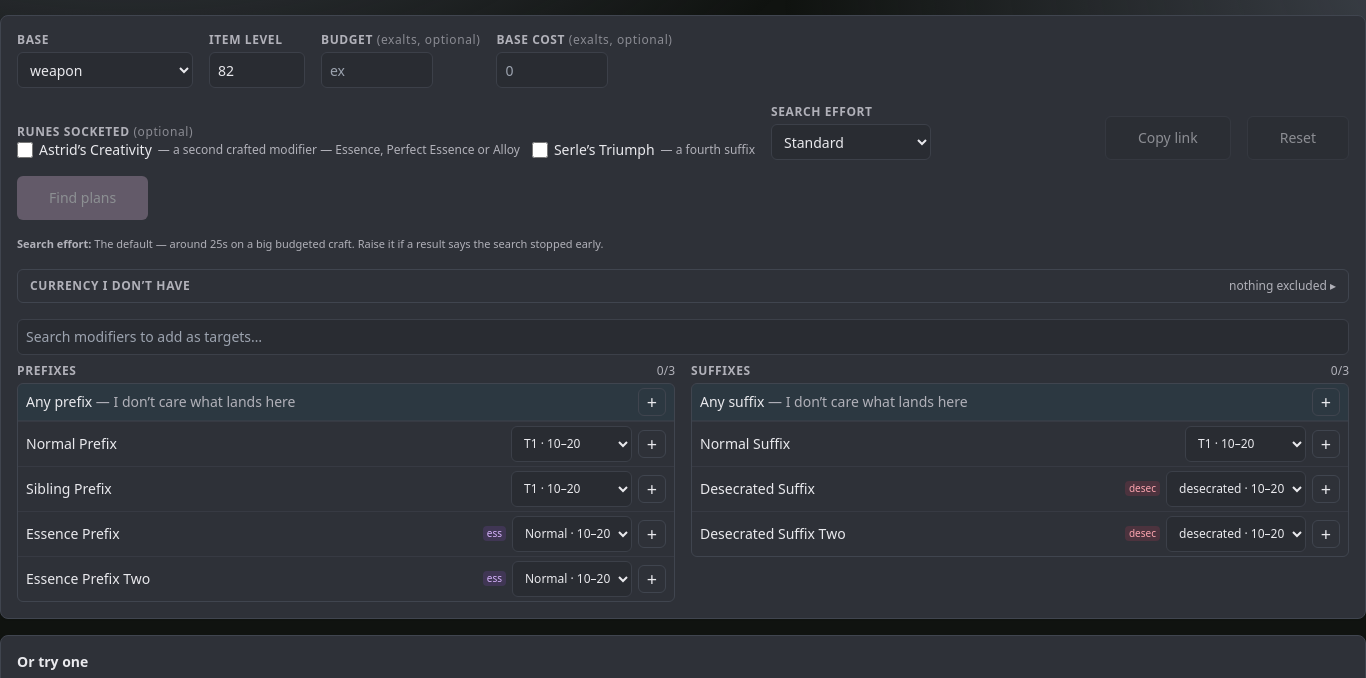
Scenario: EngineLab — the empty state gives the real reason › announces a declined planner as declined, not as a search that scored zero
Check: the field with placeholder "Search modifiers to add as targets…" is shown, box [17, 319, 1349, 355]
What coordinates should you click on to do the following:
click the button "+" in the row of "Normal Prefix"
I would click on:
 (652, 444)
Its box is [638, 430, 666, 458].
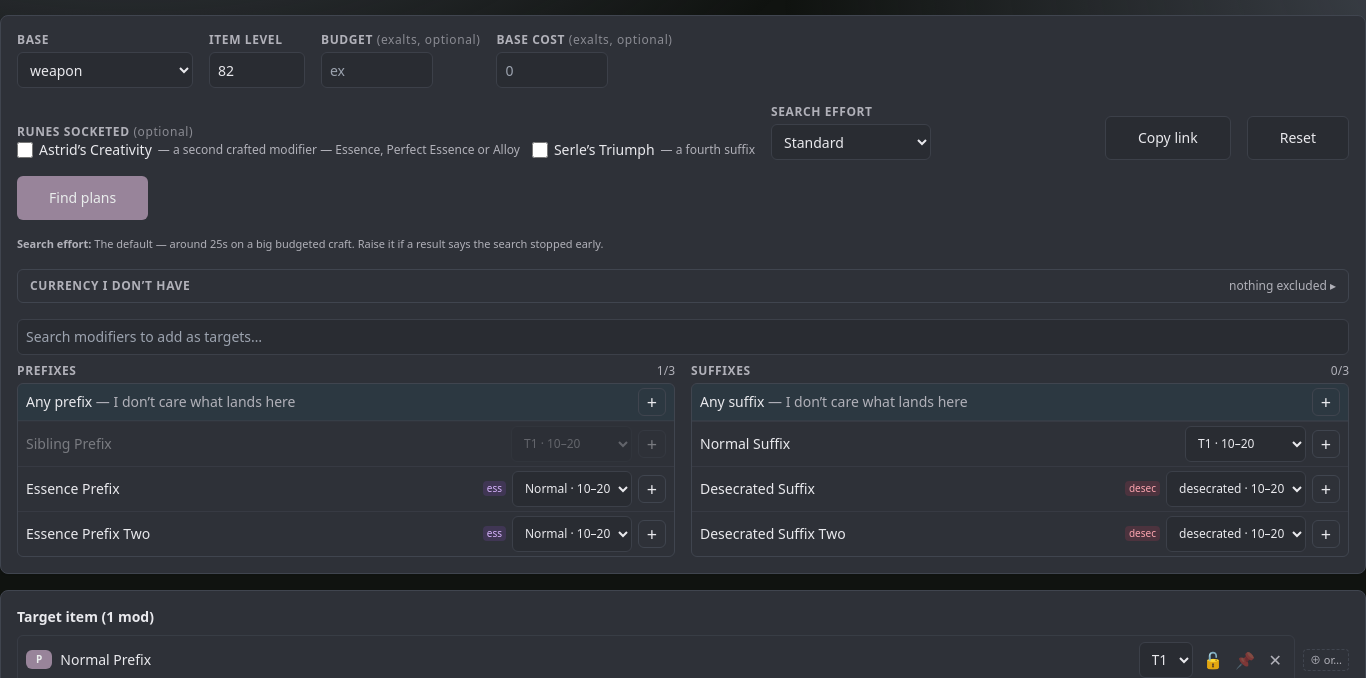
What coordinates should you click on to do the following:
click the button "Find plans"
I would click on:
 (83, 198)
Its box is [17, 176, 148, 220].
(page scrolled)
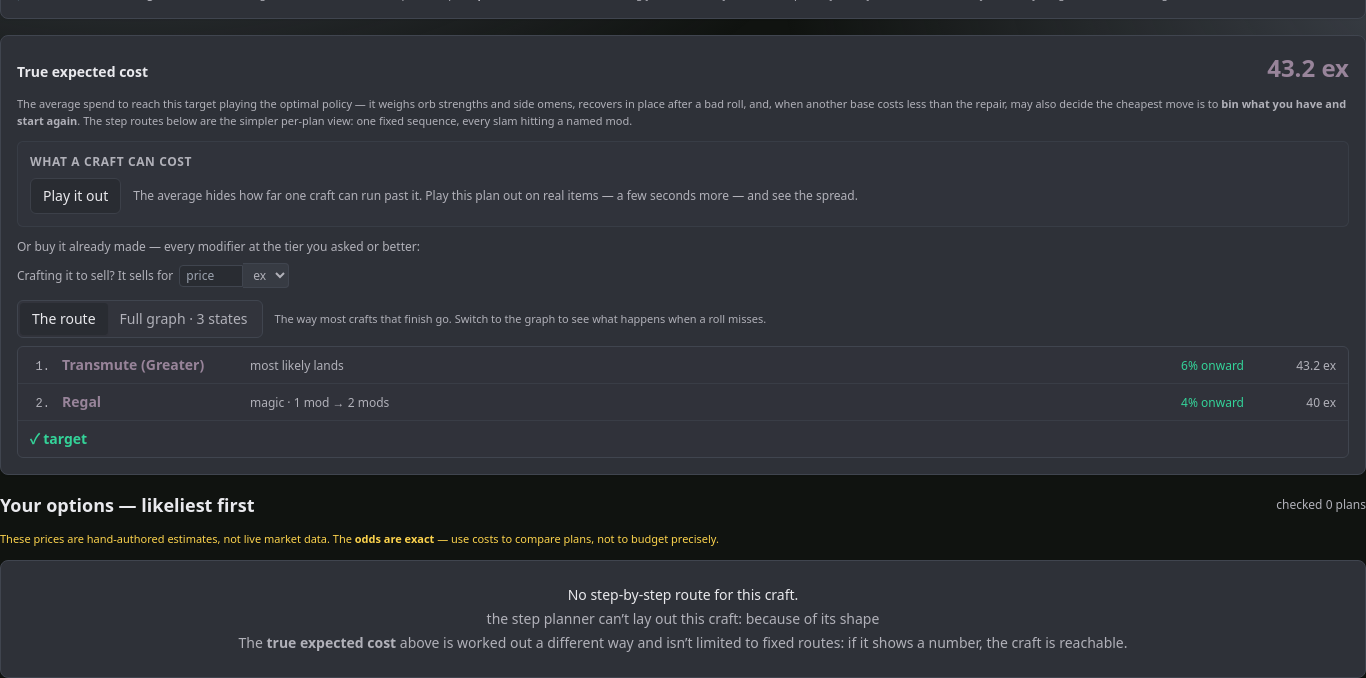
Check: the text "because of its shape" is shown, box [487, 609, 879, 628]
